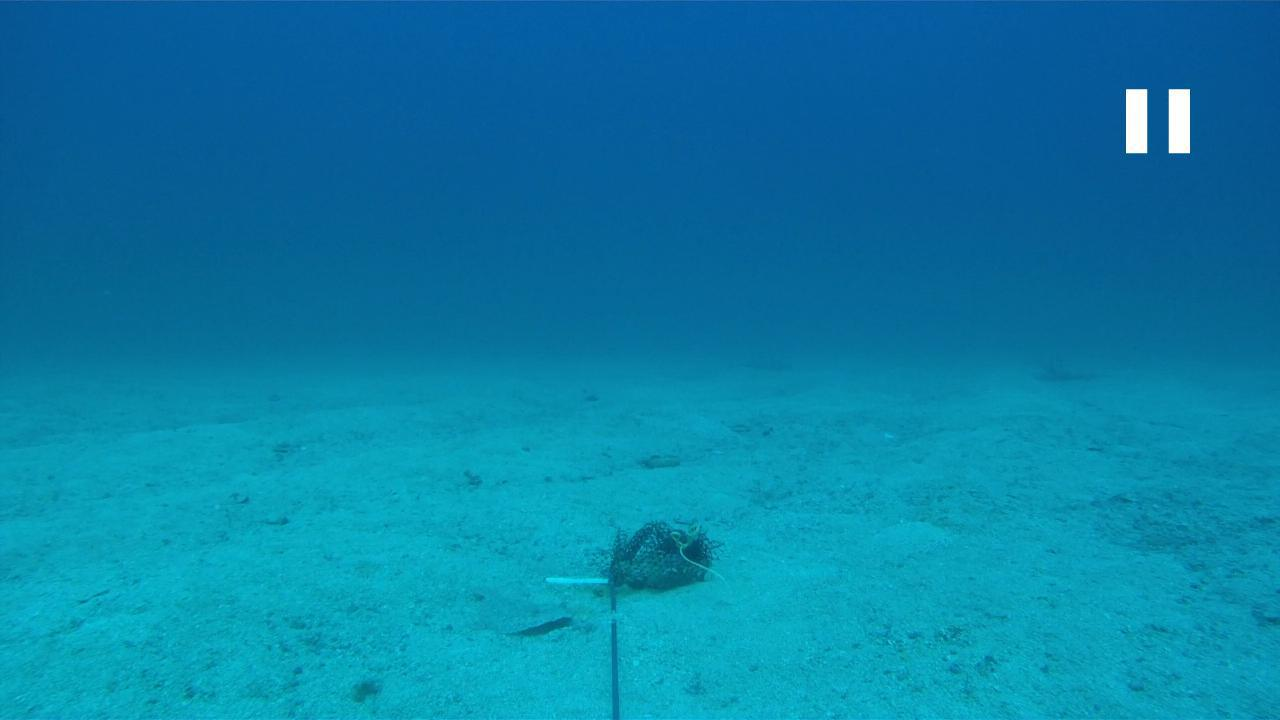bothus: (471, 590, 570, 638)
